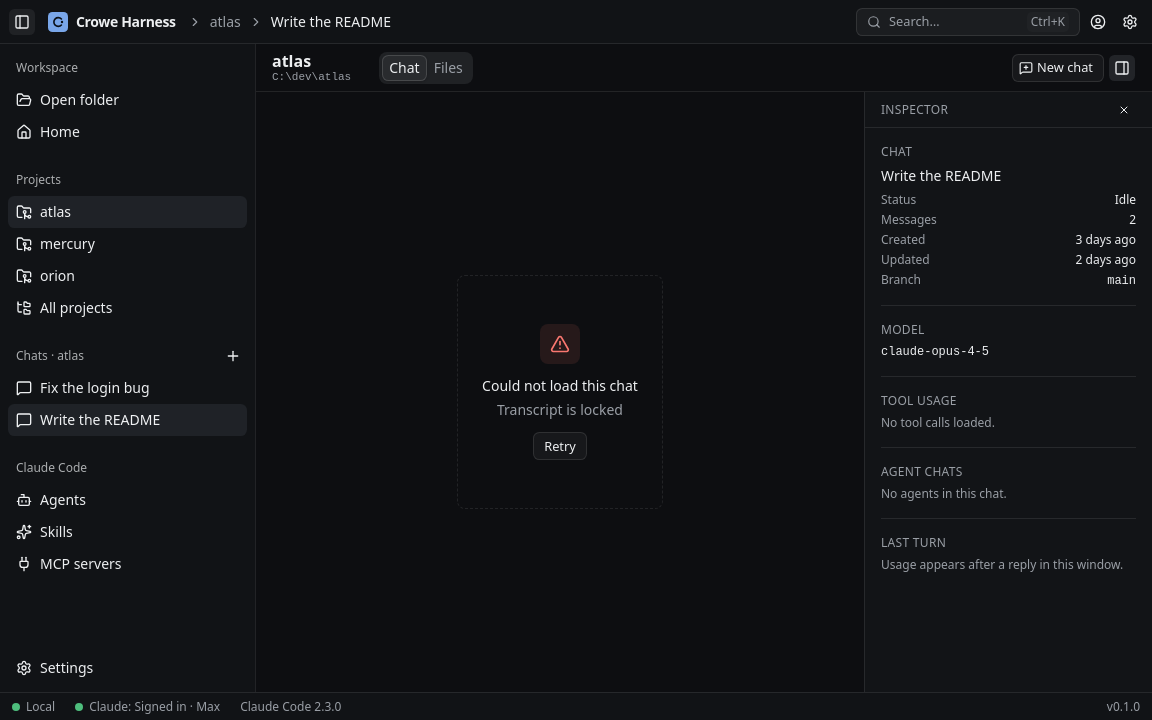
Test: stored chats › retries a transcript that failed to load
The width and height of the screenshot is (1152, 720).
Check: the message shows "Transcript is locked", box [497,400,623,419]
Click the button "Retry" at (560, 446), box [533,432,587,460]
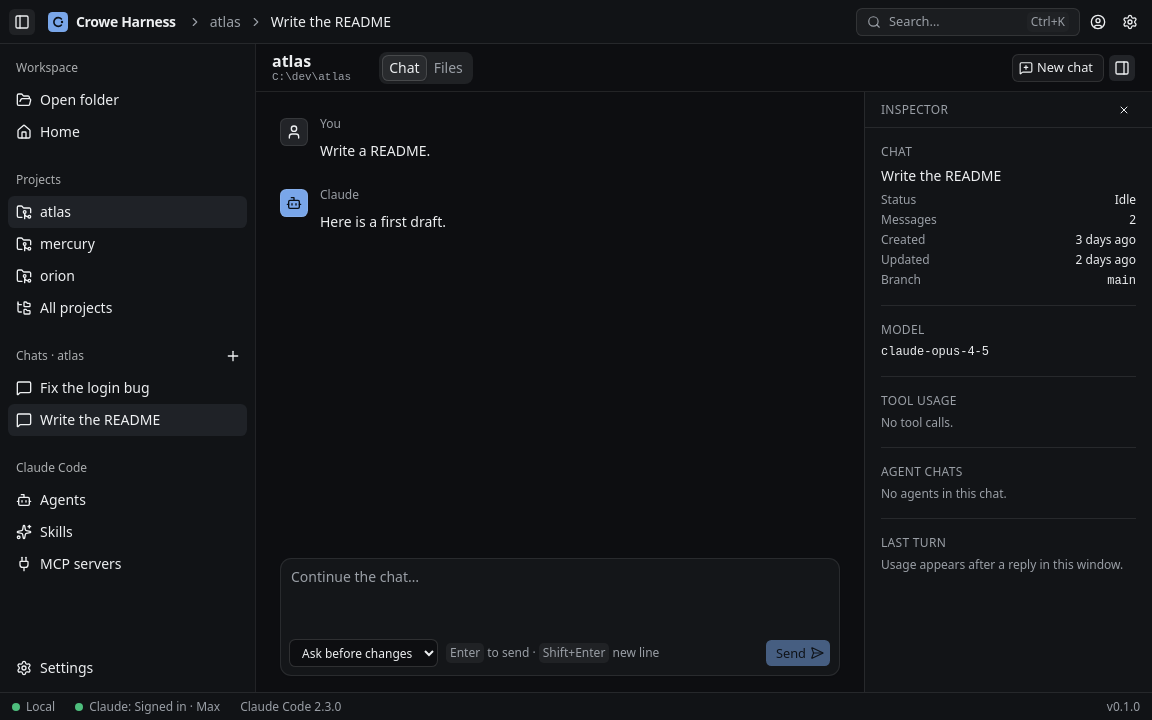
Check: the text "Here is a first draft." is shown, box [320,212,446,231]
